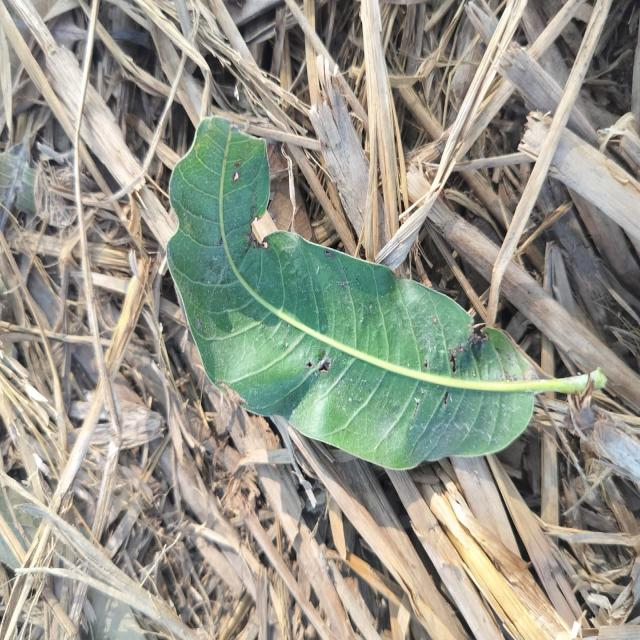Anthracnose: (230, 168, 243, 187)
Bacterial Cancer: (443, 341, 468, 375), (306, 354, 334, 376)
